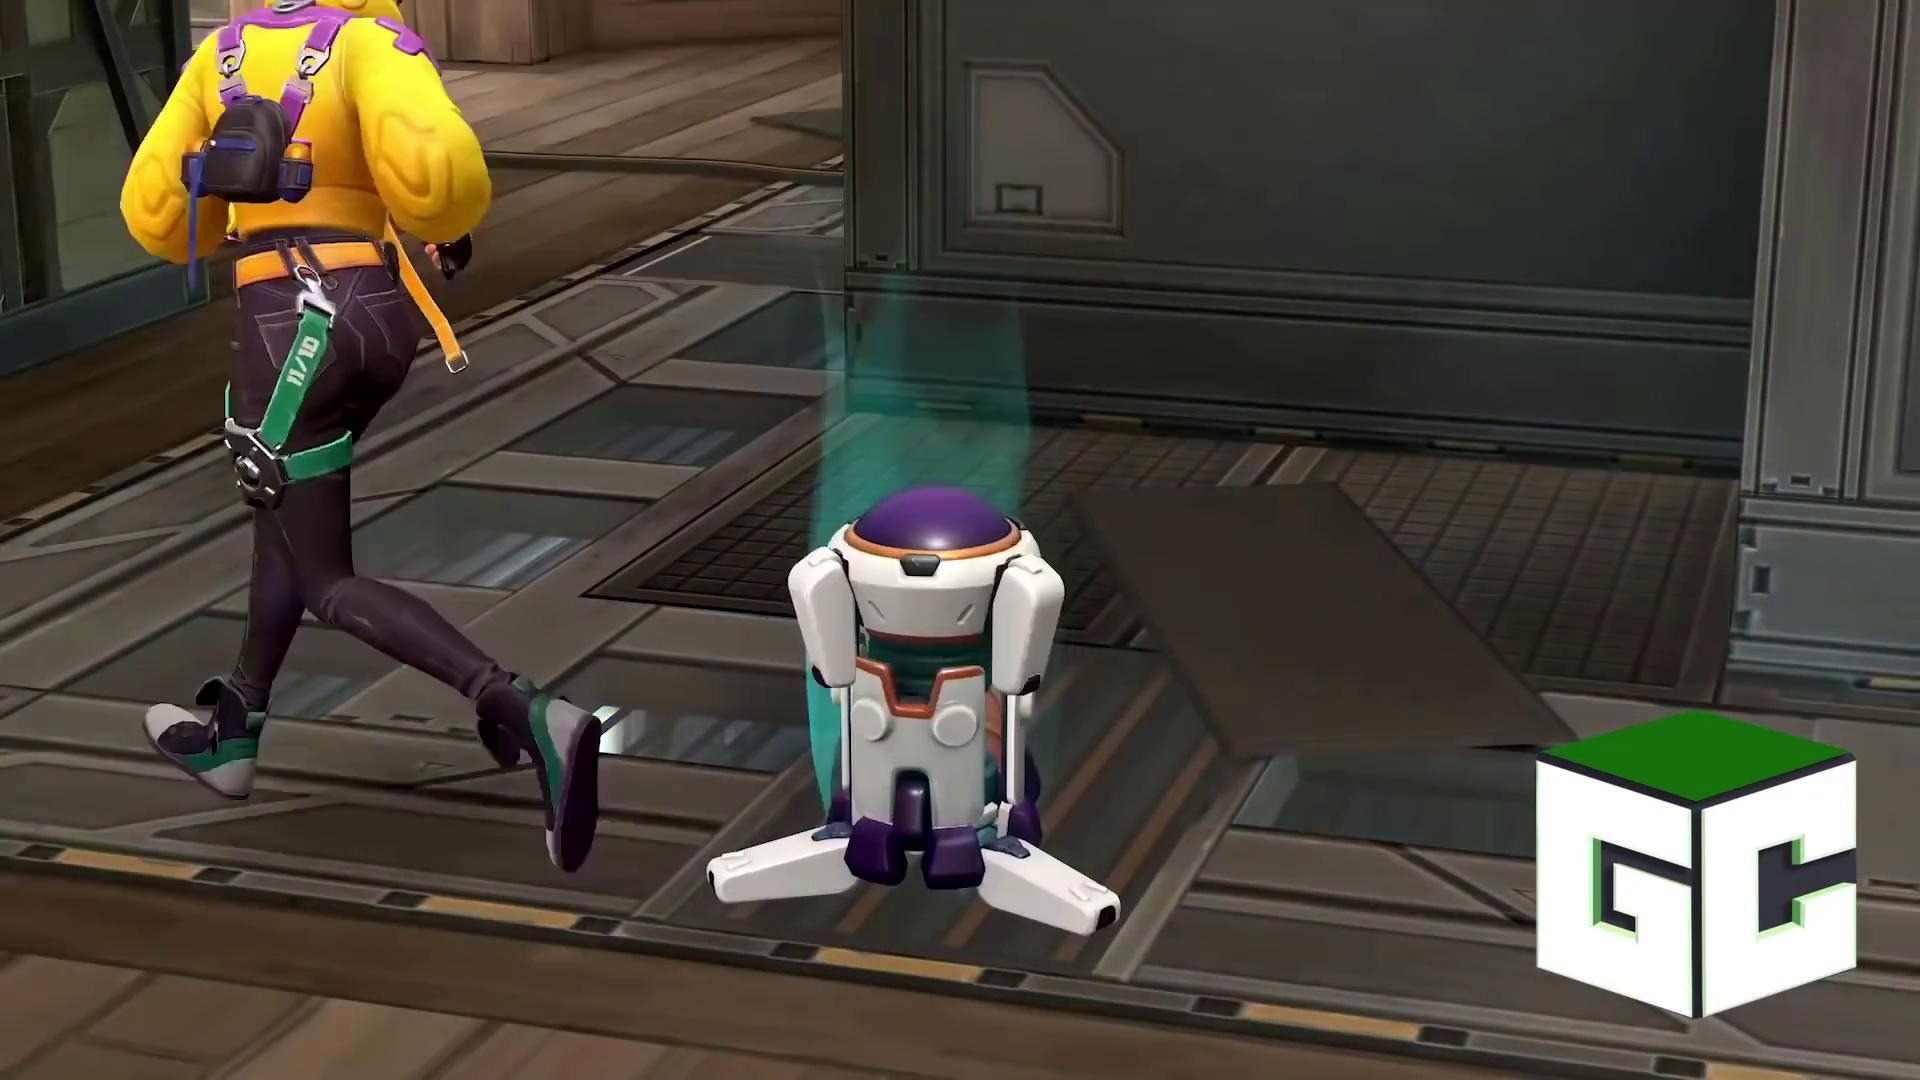Body: (117, 3, 605, 877)
